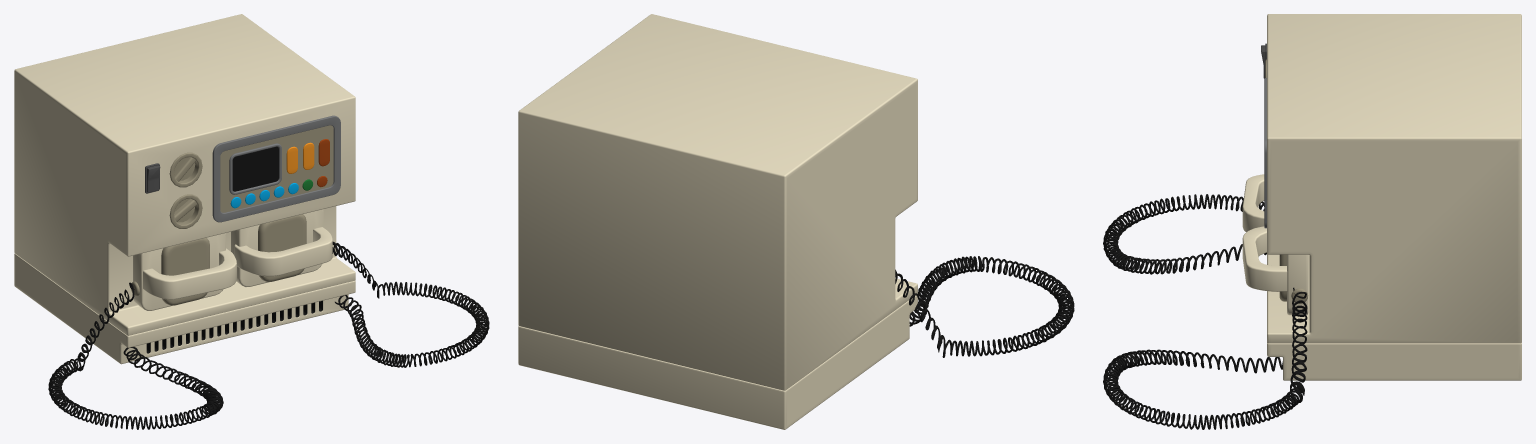
The model's file is Defibrillator.fbx.
The picture shows the model from 3 angles, left to right: view 1: azimuth 30°, elevation 25°; view 2: azimuth 150°, elevation 25°; view 3: azimuth 270°, elevation 25°; orthographic projection. The views are drawn at different scales.
Visible parts, largest first — view 1: cadnav.com; view 2: cadnav.com; view 3: cadnav.com.
Boxes of the visible parts, x1=… form: cadnav.com: x1=14, y1=14, x2=489, y2=429; cadnav.com: x1=518, y1=14, x2=1074, y2=429; cadnav.com: x1=1103, y1=14, x2=1521, y2=429.
Bounding box in the file's own units: 251 × 127 × 196.
9 materials, 1 textured.
